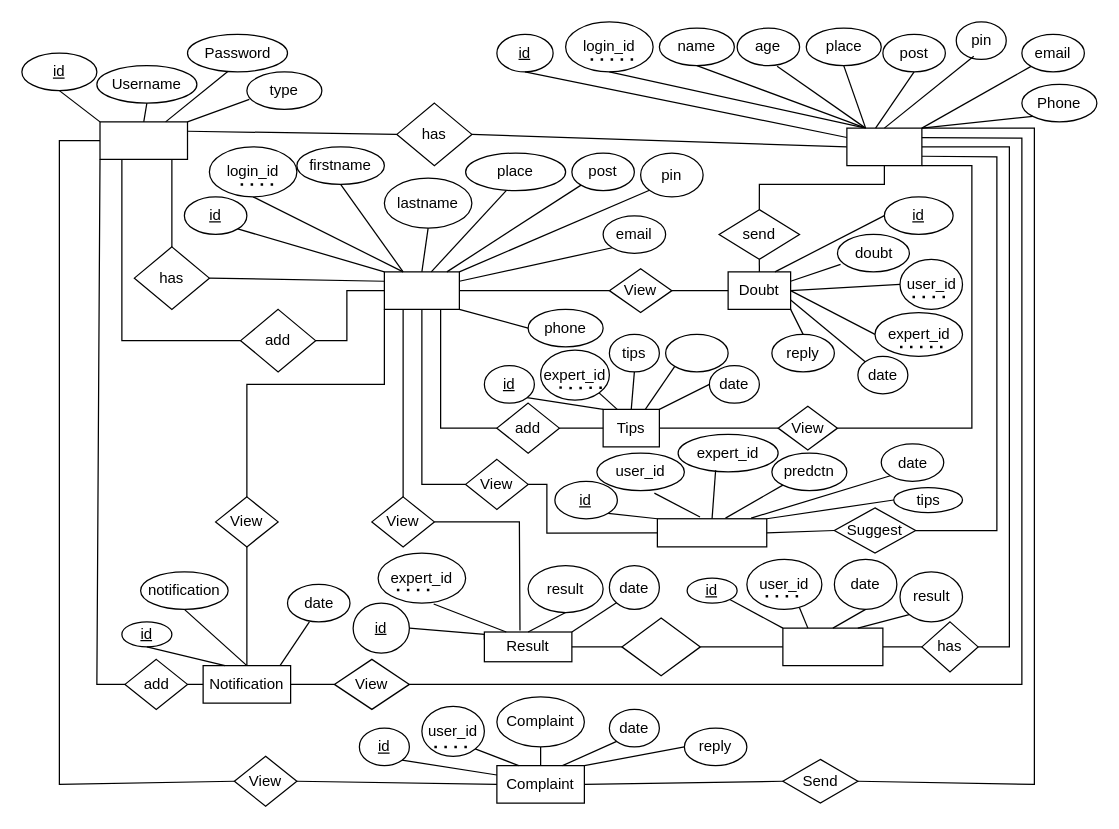
This 1119x829 diagram has some shape labels left out. Each missing label, with the centre of its shape:
"details" goes at (696,352).
"Expert" goes at (421,290).
"Login" goes at (143,140).
"predict" goes at (660,646).
"Prediction" goes at (832,646).
"Prediction reslt" goes at (711,532).
"User" goes at (884,146).
